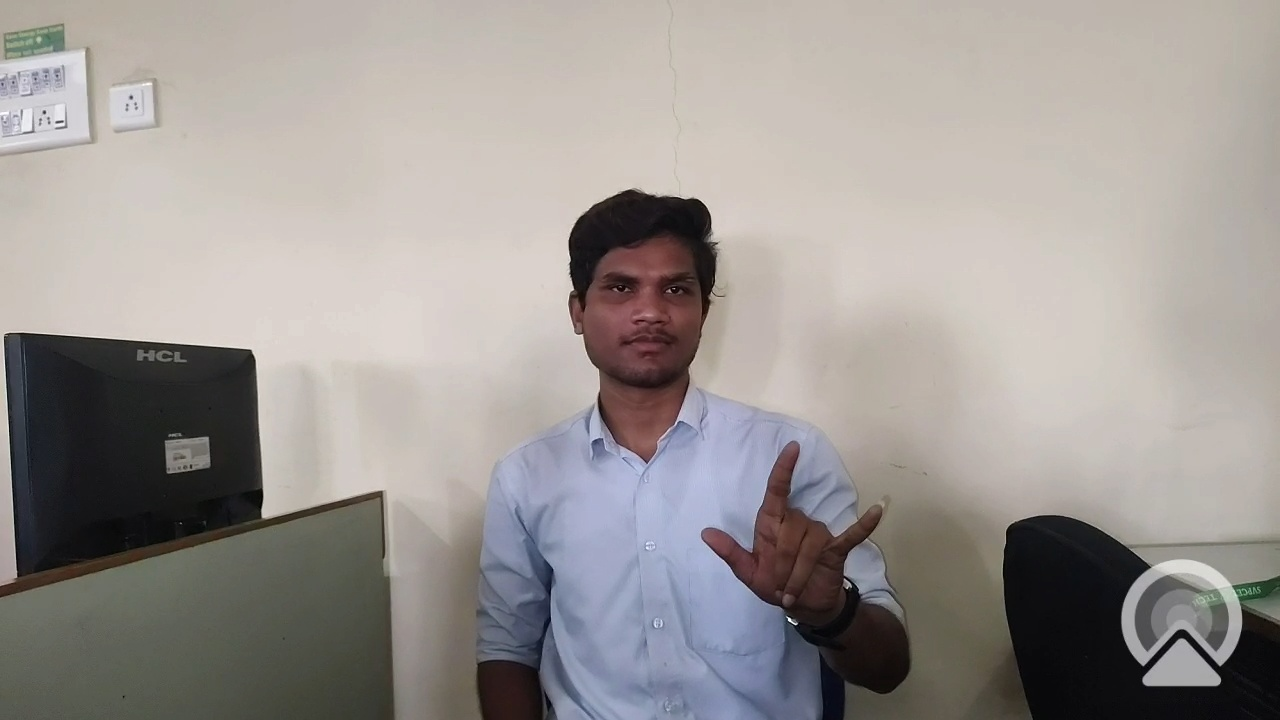I love you: (691, 421, 912, 648)
